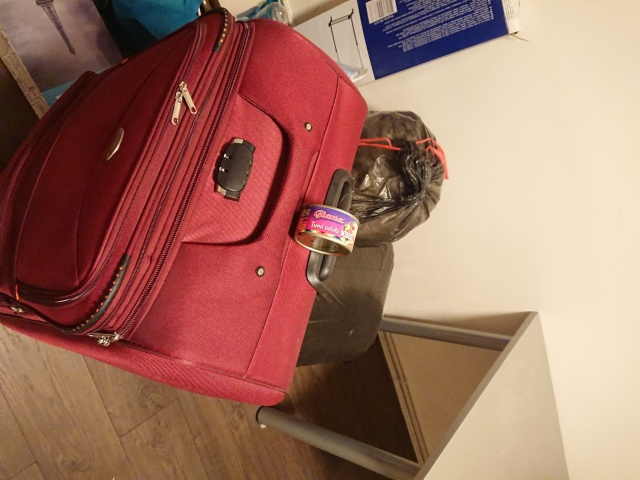Giana Tuna Salad Mexico 185g: (292, 201, 362, 259)
